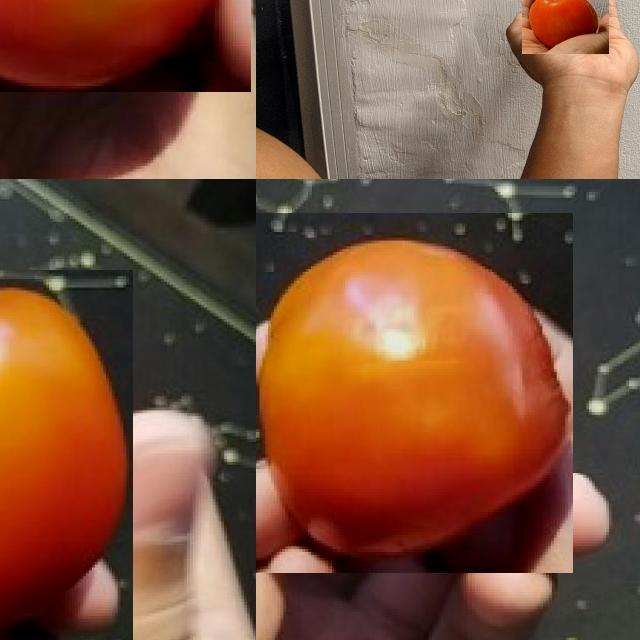Fresh Tomato: (0, 270, 132, 640), (0, 0, 250, 91), (522, 0, 608, 54)
Rotten Tomato: (256, 213, 573, 572)
